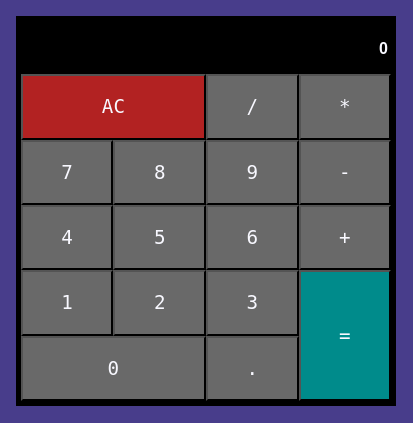
Test case: should clear the display when the AC button is clicked
Click the button "9" at x=252, y=172, box [206,140,299,205]
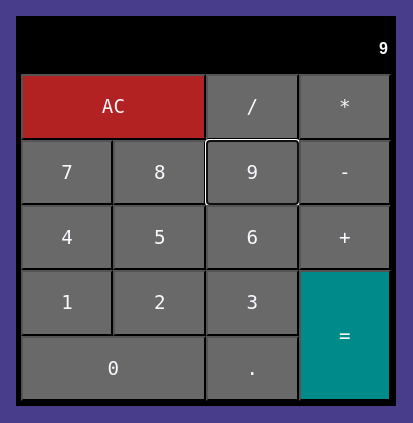
Click the button "AC" at x=113, y=107, box [21,74,206,140]
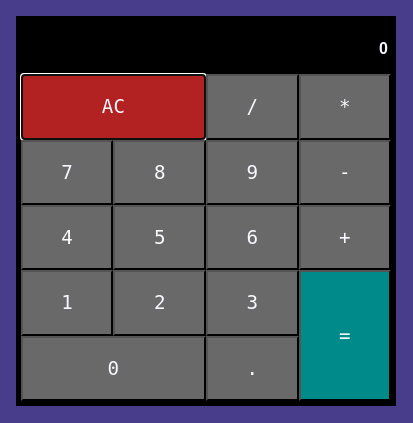
Result: the text with test id "display" reads "0" at [379,40,388,57]
Click the button "*" at x=345, y=107, box [299,74,391,140]
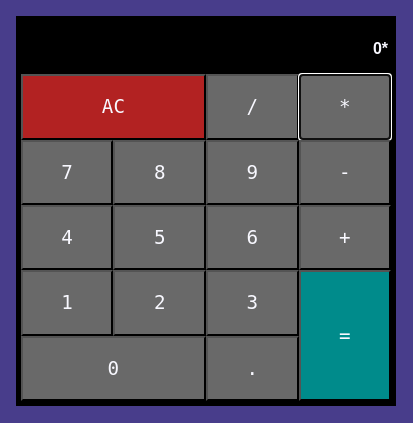
Click the button "AC" at x=113, y=107, box [21,74,206,140]
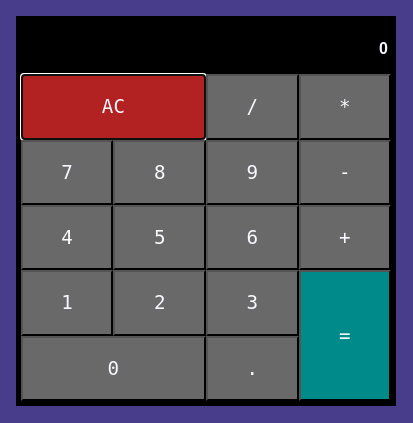
Result: the text with test id "display" reads "0" at [379,40,388,57]
Click the button "." at x=252, y=368, box [206,336,299,401]
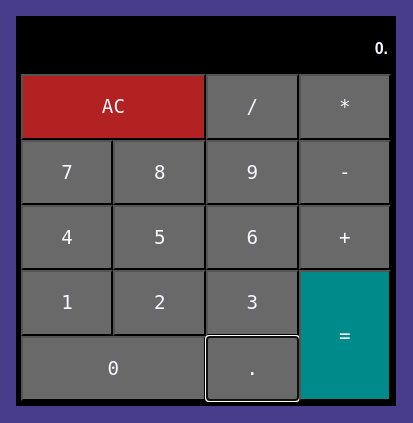
Click the button "AC" at x=113, y=107, box [21,74,206,140]
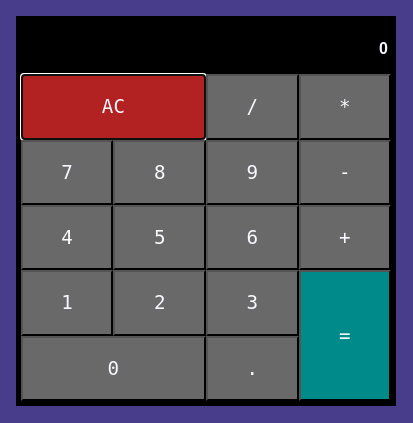
Result: the text with test id "display" reads "0" at [379,40,388,57]
